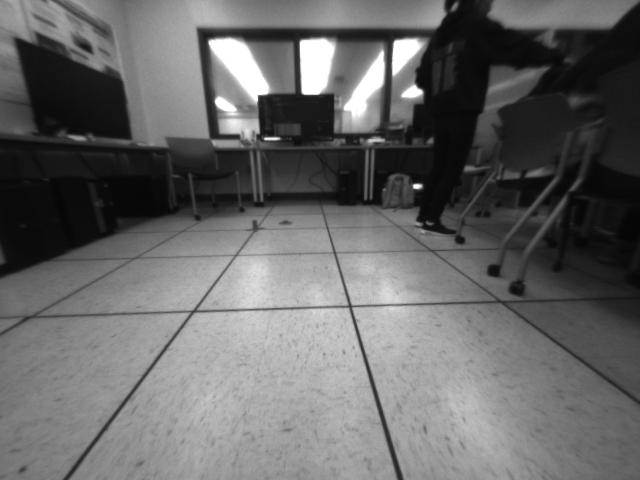X: (244, 219, 265, 234)
